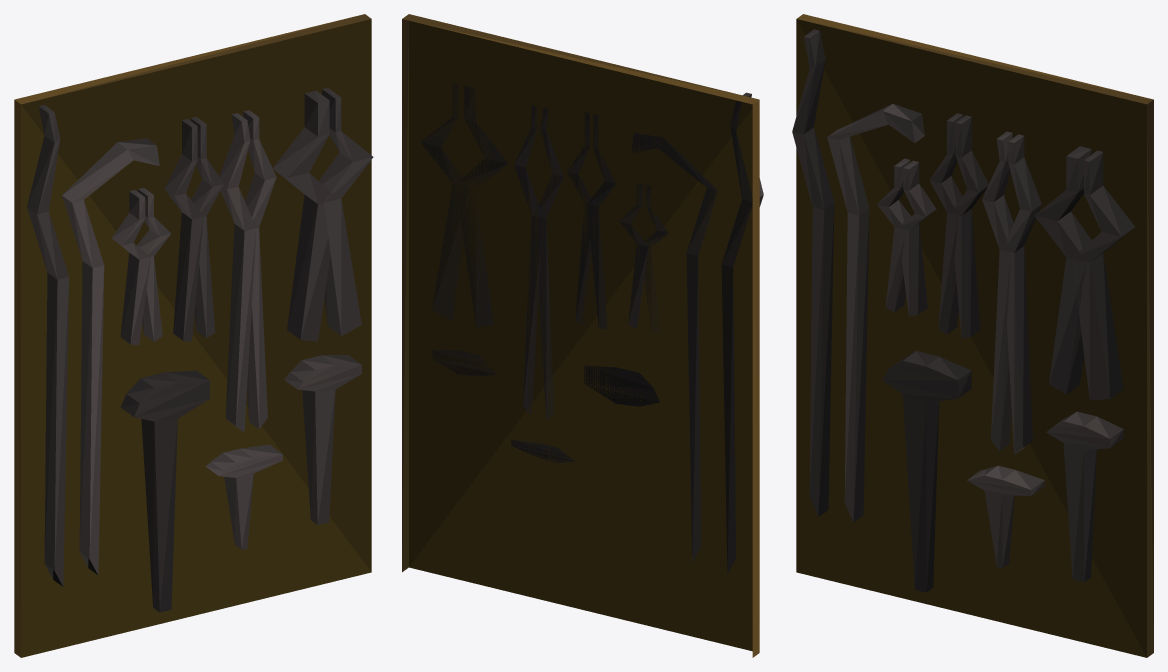
The model's file is blacksmiths_tools.obj.
The picture shows the model from 3 angles, left to right: view 1: azimuth 30°, elevation 25°; view 2: azimuth 150°, elevation 25°; view 3: azimuth 330°, elevation 25°; orthographic projection.
Visible parts, largest first — view 1: Object Blacksmiths' tools 2026-10-08_16-58-30; view 2: Object Blacksmiths' tools 2026-10-08_16-58-30; view 3: Object Blacksmiths' tools 2026-10-08_16-58-30.
Boxes of the visible parts, left/top/right/bottom form: Object Blacksmiths' tools 2026-10-08_16-58-30: left=14, top=14, right=373, bottom=657; Object Blacksmiths' tools 2026-10-08_16-58-30: left=402, top=14, right=763, bottom=657; Object Blacksmiths' tools 2026-10-08_16-58-30: left=792, top=14, right=1153, bottom=657.
Bounding box in the file's own units: 120 × 181 × 12.
